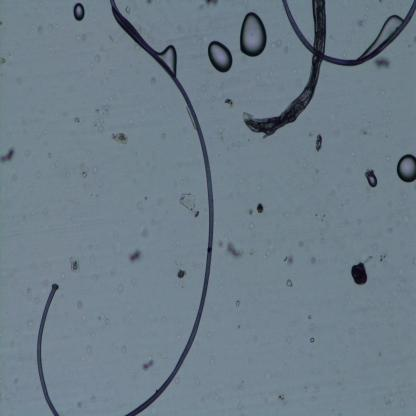Air bubble: (360, 12, 402, 56), (237, 11, 266, 57), (206, 41, 232, 73), (161, 43, 178, 71), (72, 3, 86, 21), (366, 172, 378, 188)
Background material: (94, 94, 112, 130), (176, 192, 198, 216), (350, 260, 369, 286), (224, 242, 245, 260), (312, 212, 327, 236), (67, 255, 82, 276), (110, 130, 128, 146), (0, 145, 15, 164), (275, 390, 290, 408), (66, 112, 84, 126), (128, 249, 144, 264), (77, 156, 87, 179), (354, 13, 368, 29), (376, 55, 392, 69), (358, 126, 374, 140), (202, 0, 220, 12), (161, 102, 173, 118), (142, 357, 154, 372), (315, 132, 324, 152), (280, 254, 295, 266), (134, 198, 145, 214), (176, 265, 187, 281), (73, 33, 89, 44), (223, 95, 235, 109), (89, 158, 98, 174), (12, 74, 24, 86), (90, 52, 102, 64), (284, 276, 294, 289), (48, 22, 58, 34), (256, 202, 264, 216), (283, 335, 293, 346), (86, 253, 96, 264), (382, 151, 391, 163), (376, 252, 386, 262), (110, 263, 117, 277), (102, 312, 108, 328), (34, 168, 42, 180), (313, 383, 320, 396), (119, 341, 126, 354), (115, 284, 124, 294), (27, 319, 34, 331), (10, 173, 17, 185), (219, 126, 225, 140), (247, 247, 256, 256), (174, 376, 182, 386), (130, 274, 137, 285), (159, 194, 164, 209), (84, 342, 90, 354), (36, 22, 42, 34), (74, 402, 82, 411), (271, 40, 279, 49), (247, 221, 256, 229), (313, 168, 321, 177), (174, 332, 181, 342), (125, 4, 132, 14), (8, 339, 15, 349), (151, 77, 158, 87), (76, 297, 82, 308), (340, 50, 348, 58), (309, 255, 316, 264), (308, 312, 313, 324), (245, 206, 252, 214), (238, 402, 244, 411), (59, 271, 65, 280), (0, 56, 7, 63), (195, 378, 201, 386), (206, 330, 212, 338), (297, 240, 303, 247), (309, 337, 315, 344), (141, 230, 146, 238), (235, 301, 241, 307), (210, 356, 214, 364), (161, 134, 166, 140), (65, 171, 70, 177), (351, 151, 355, 158), (48, 152, 51, 157)
Cellulose filter fibre: (242, 0, 327, 133)
Microfibre: (108, 0, 214, 416), (282, 1, 416, 67), (34, 283, 61, 416)
Pen: (396, 153, 416, 182)
